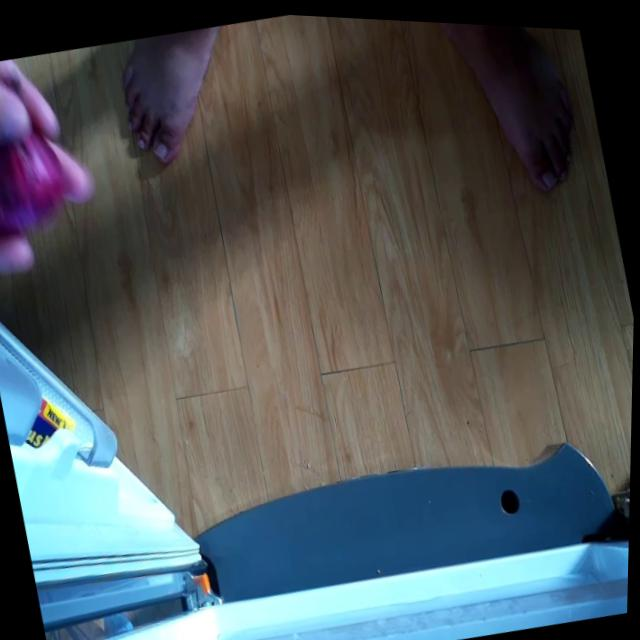onion: (0, 64, 87, 255)
